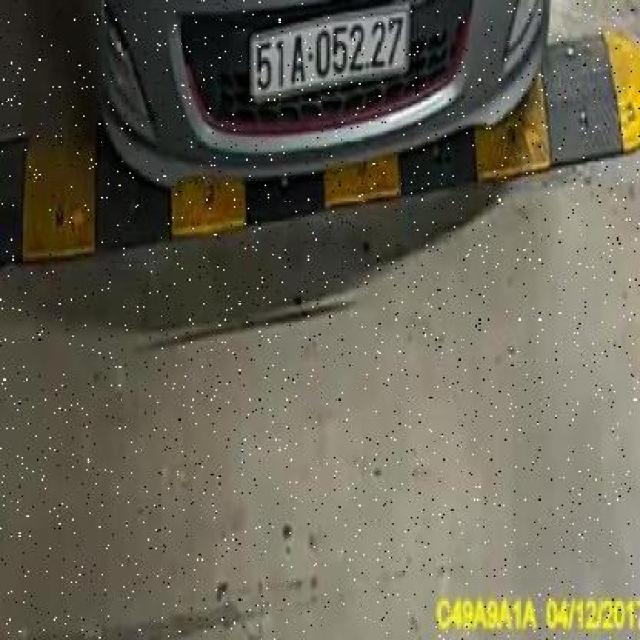number_plate: (250, 12, 419, 96)
